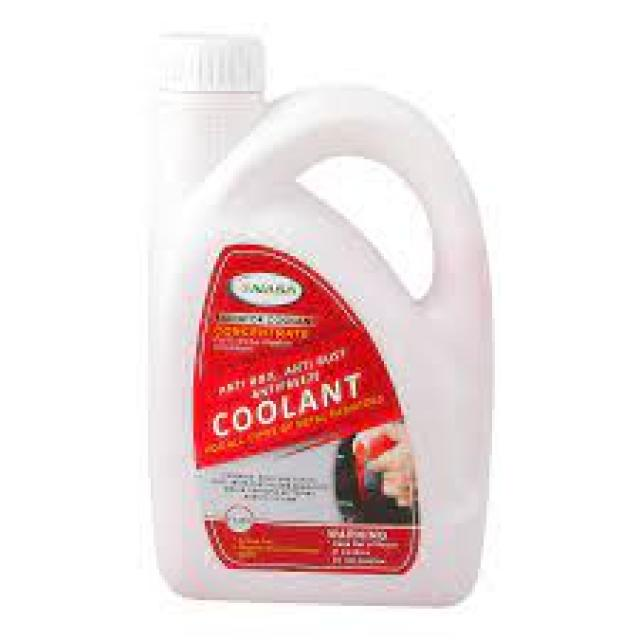coolant: (135, 26, 501, 620)
